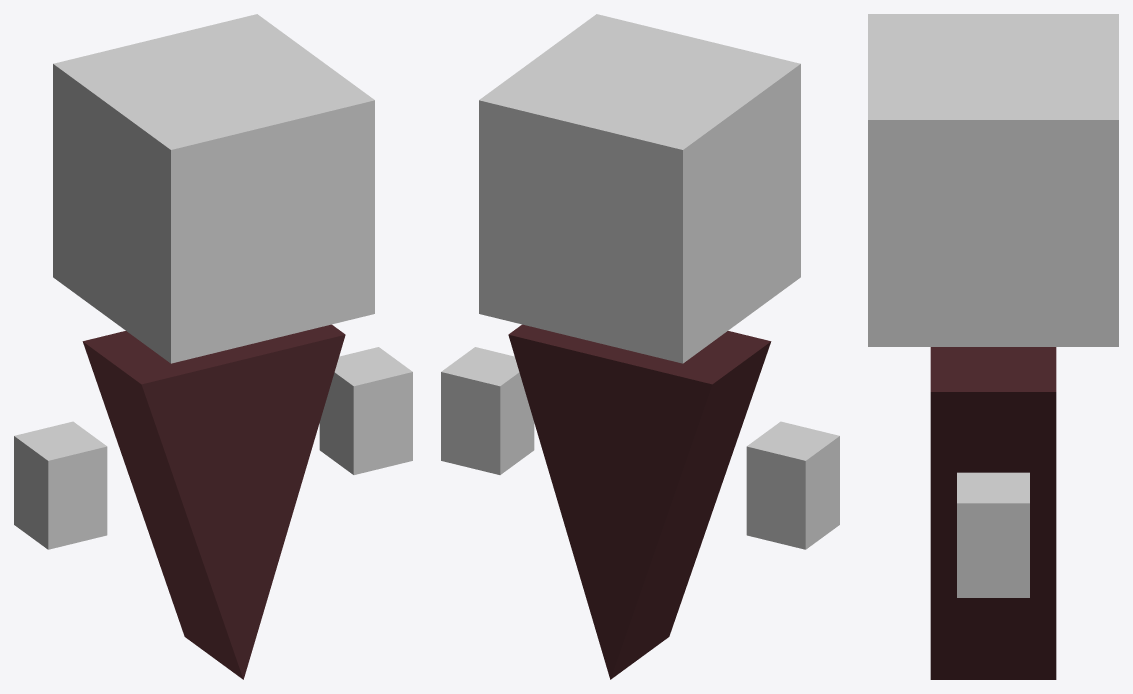
The model's file is costumer.dae.
3 views of the same model, side by side, from view 1: azimuth 30°, elevation 25°; view 2: azimuth 150°, elevation 25°; view 3: azimuth 270°, elevation 25° (orthographic). The views are drawn at different scales.
Visible parts, largest first — view 1: Cube; view 2: Cube; view 3: Cube.
Part boxes in pixels (box(x1,y1,x2,y2)): Cube: box(14, 14, 412, 679); Cube: box(441, 14, 839, 679); Cube: box(868, 14, 1118, 679).
Size of the model in its own units: 3.57 by 2 by 5.4.
